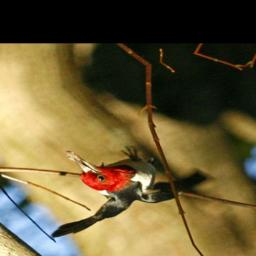Woodpecker: (0, 120, 225, 248)
